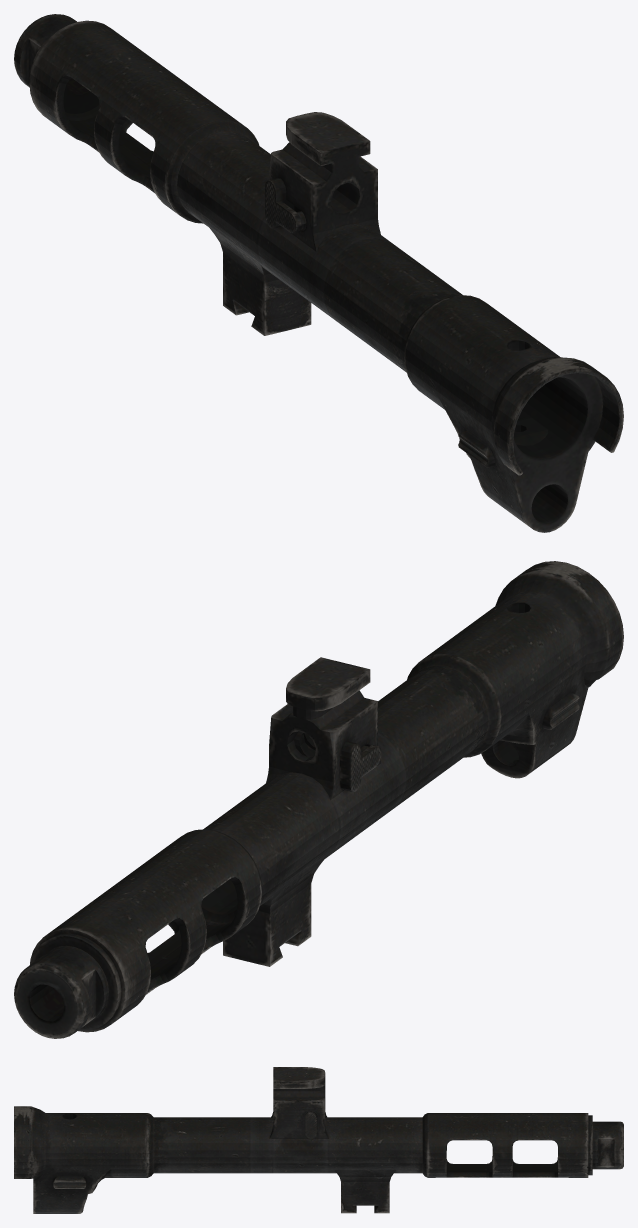
3 views of the same model, one above another, from view 1: azimuth 30°, elevation 25°; view 2: azimuth 150°, elevation 25°; view 3: azimuth 270°, elevation 25° (orthographic). The views are drawn at different scales.
Parts seen in each view (by area): view 1: TW_64119d1f2c6d6f921a0929f8_PZ_Import; view 2: TW_64119d1f2c6d6f921a0929f8_PZ_Import; view 3: TW_64119d1f2c6d6f921a0929f8_PZ_Import.
Boxes of the visible parts, box(x1,y1,x2,y2) form: TW_64119d1f2c6d6f921a0929f8_PZ_Import: box(14, 14, 623, 532); TW_64119d1f2c6d6f921a0929f8_PZ_Import: box(14, 561, 623, 1038); TW_64119d1f2c6d6f921a0929f8_PZ_Import: box(14, 1067, 623, 1213).
Size of the model in its own units: 0.014 by 0.1091 by 0.0273.
1 material, 1 textured.
